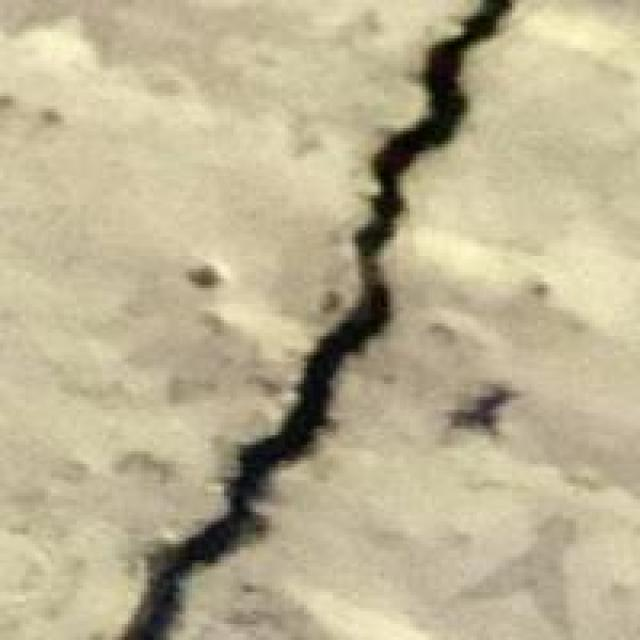Crack: (70, 0, 557, 637)
